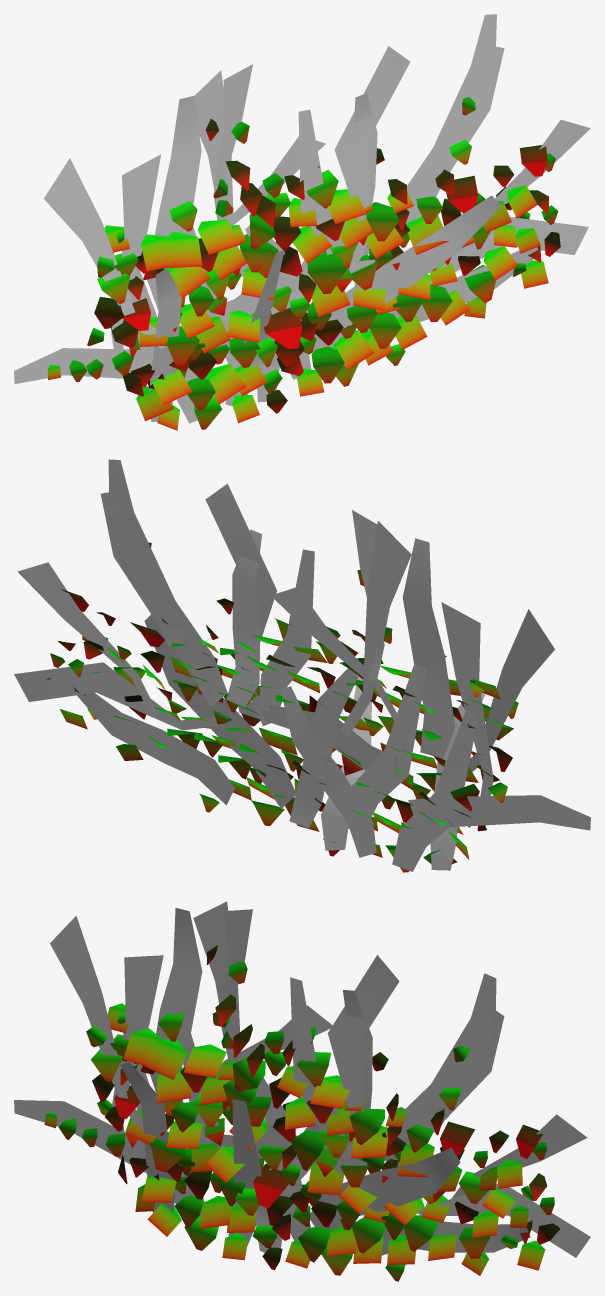
File: Var3_LOD2.fbx
The picture shows the model from 3 angles, top to bottom: view 1: azimuth 30°, elevation 25°; view 2: azimuth 150°, elevation 25°; view 3: azimuth 330°, elevation 25°; orthographic projection.
Visible parts, largest first — view 1: _70f1_Var3_LOD2; view 2: _70f1_Var3_LOD2; view 3: _70f1_Var3_LOD2.
Boxes of the visible parts, bbox=[...] form: _70f1_Var3_LOD2: bbox=[14, 14, 590, 430]; _70f1_Var3_LOD2: bbox=[14, 459, 590, 872]; _70f1_Var3_LOD2: bbox=[14, 901, 590, 1281].
Bounding box in the file's own units: 102 × 59.68 × 9.73.
